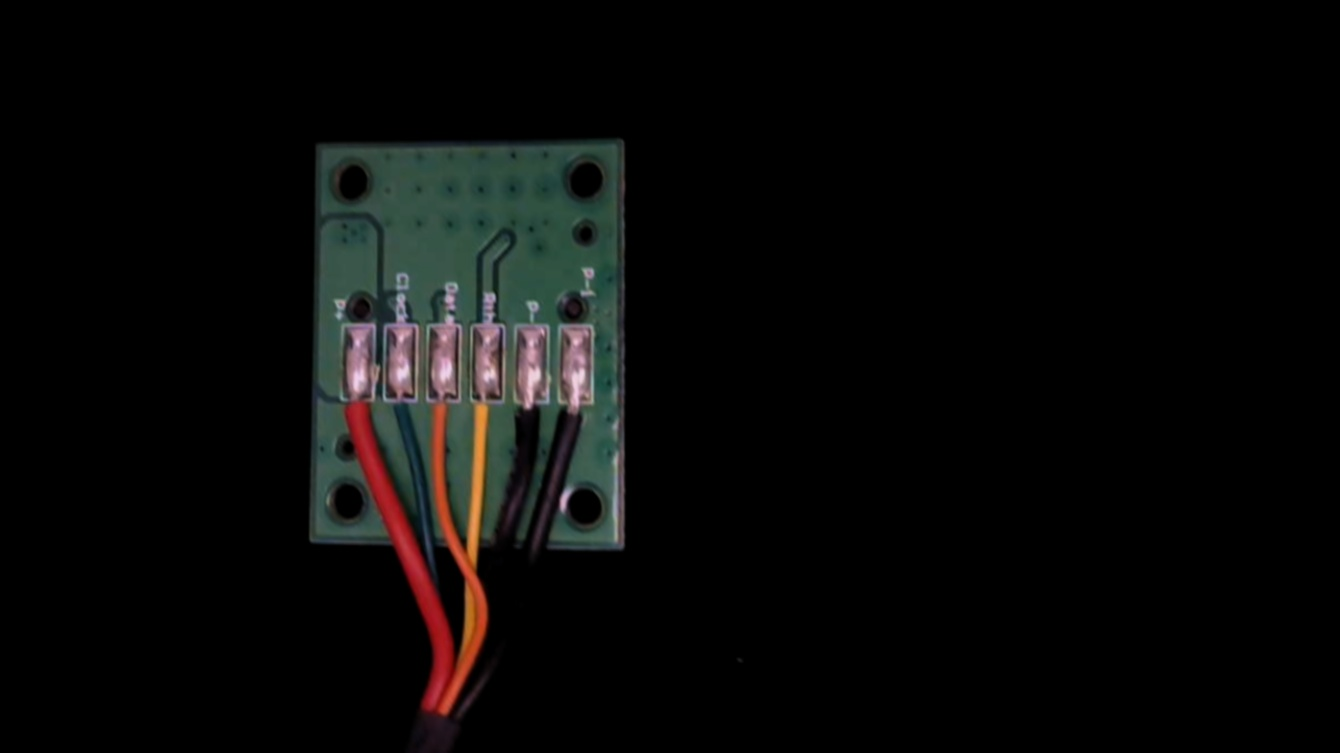Black: (509, 380, 549, 471)
Black1: (557, 377, 596, 460)
Green: (382, 378, 419, 455)
Orange: (421, 376, 460, 453)
Red: (336, 381, 376, 458)
Yellow: (467, 378, 506, 470)
